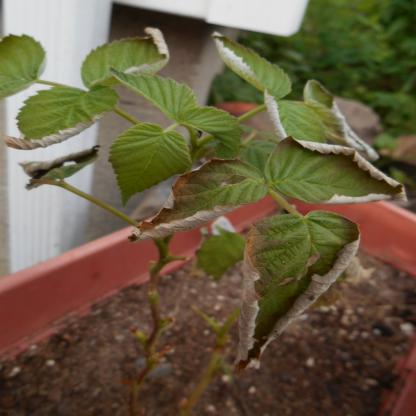raspberry leaf: (235, 214, 361, 366), (124, 155, 266, 245), (266, 132, 411, 207), (110, 122, 190, 204), (107, 67, 202, 125), (179, 108, 245, 161)
